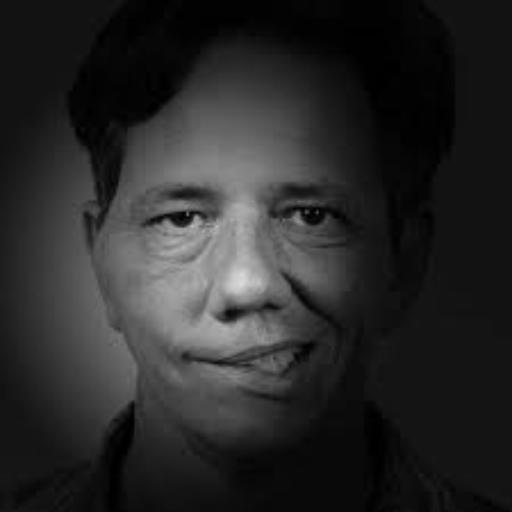left_eye: (278, 204, 358, 233)
left_lip_corner: (297, 337, 328, 359)
right_eye: (141, 208, 215, 235)
right_lip_corner: (177, 348, 224, 376)
